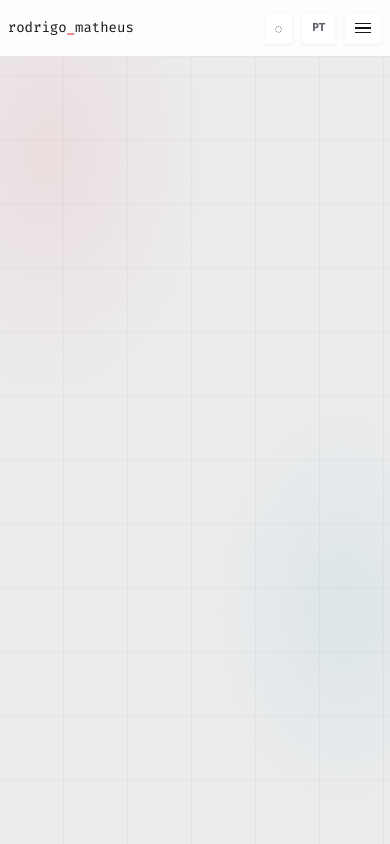
Header — menu mobile › botão de menu abre a folha com os links e fecha com Escape
Click the button named "Open menu" at (363, 28), box [344, 12, 382, 44]
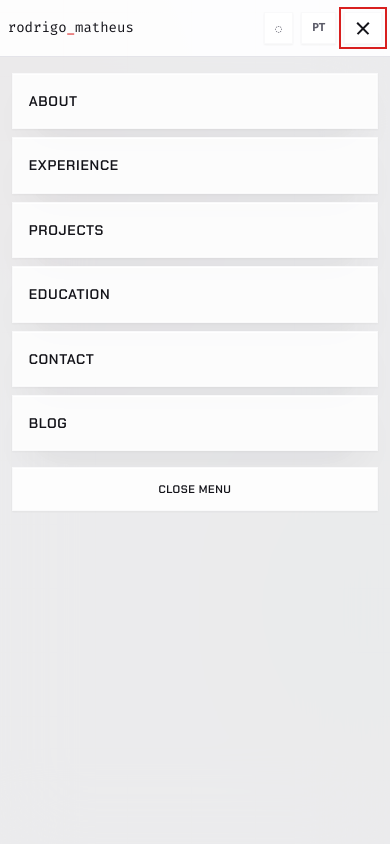
Expected: the button named "Close menu" is expanded, [344, 12, 382, 44]
Expected: the dialog is shown
Press Escape
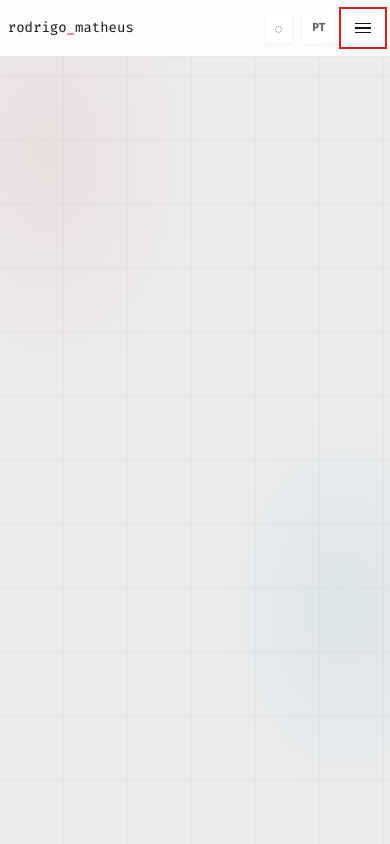
Expected: the dialog is gone
